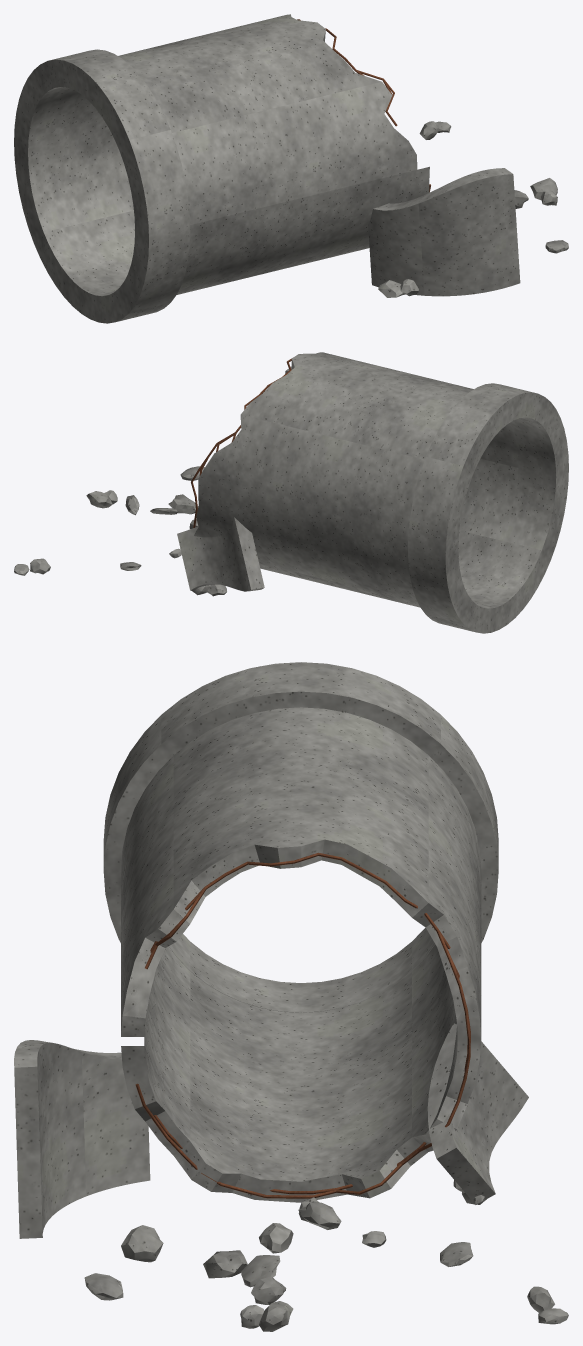
The model's file is broken-concrete-pipe.glb.
The picture shows the model from 3 angles, top to bottom: view 1: azimuth 30°, elevation 25°; view 2: azimuth 150°, elevation 25°; view 3: azimuth 270°, elevation 25°; orthographic projection. The views are drawn at different scales.
Visible parts, largest first — view 1: Broken_Concrete_Pipe; view 2: Broken_Concrete_Pipe; view 3: Broken_Concrete_Pipe.
Boxes of the visible parts, x1,y1,x2,y2 form: Broken_Concrete_Pipe: [14, 14, 568, 323]; Broken_Concrete_Pipe: [14, 352, 568, 633]; Broken_Concrete_Pipe: [14, 662, 568, 1331].
Size of the model in its own units: 2.72 by 1.36 by 1.91.
Materials: 2 (2 with a texture image).
